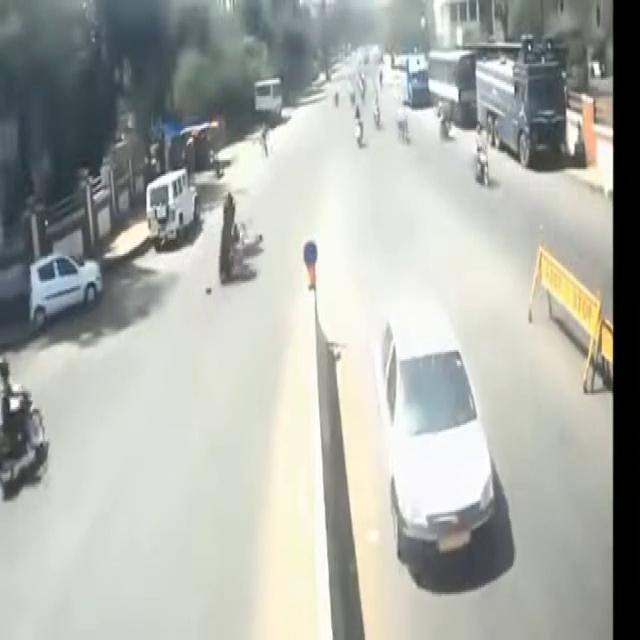accident: (194, 162, 276, 326)
